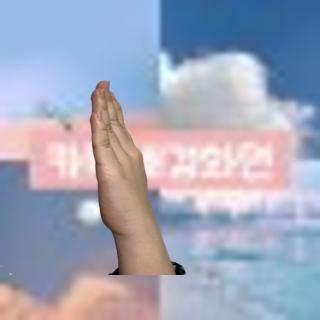RIGHT: (84, 76, 160, 241)
